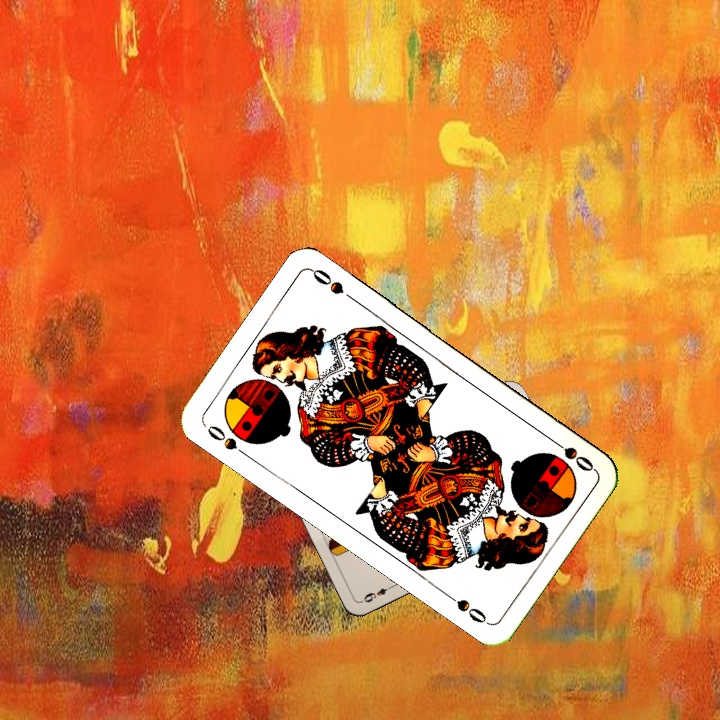E9: (360, 581, 396, 605)
SO: (545, 433, 597, 475), (200, 421, 252, 460)
